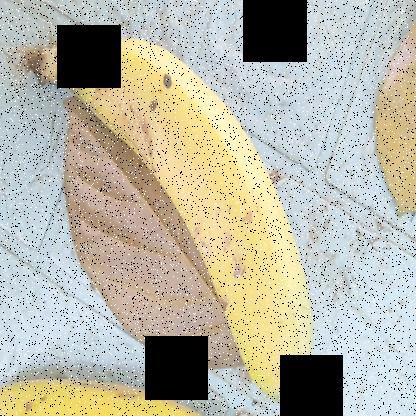ripe: (68, 27, 338, 415)
